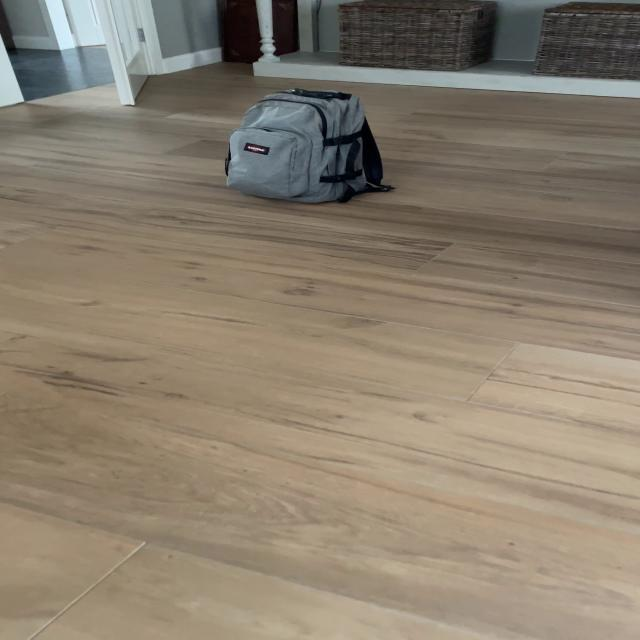backpack: (214, 83, 389, 207)
